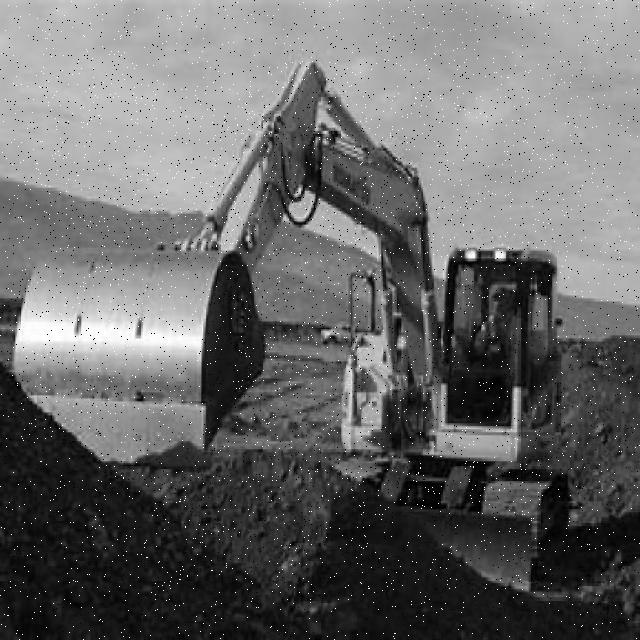Construction Equipment: (12, 61, 572, 595)
